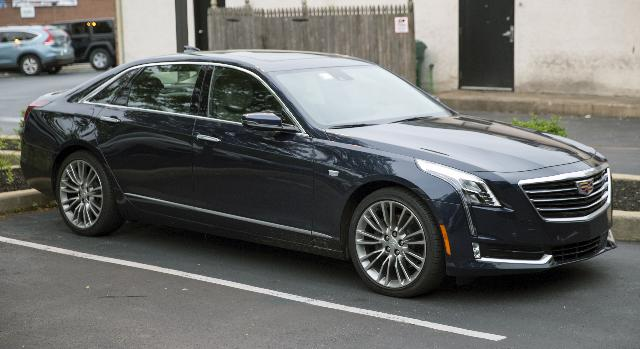cadillac: (19, 50, 617, 298)
